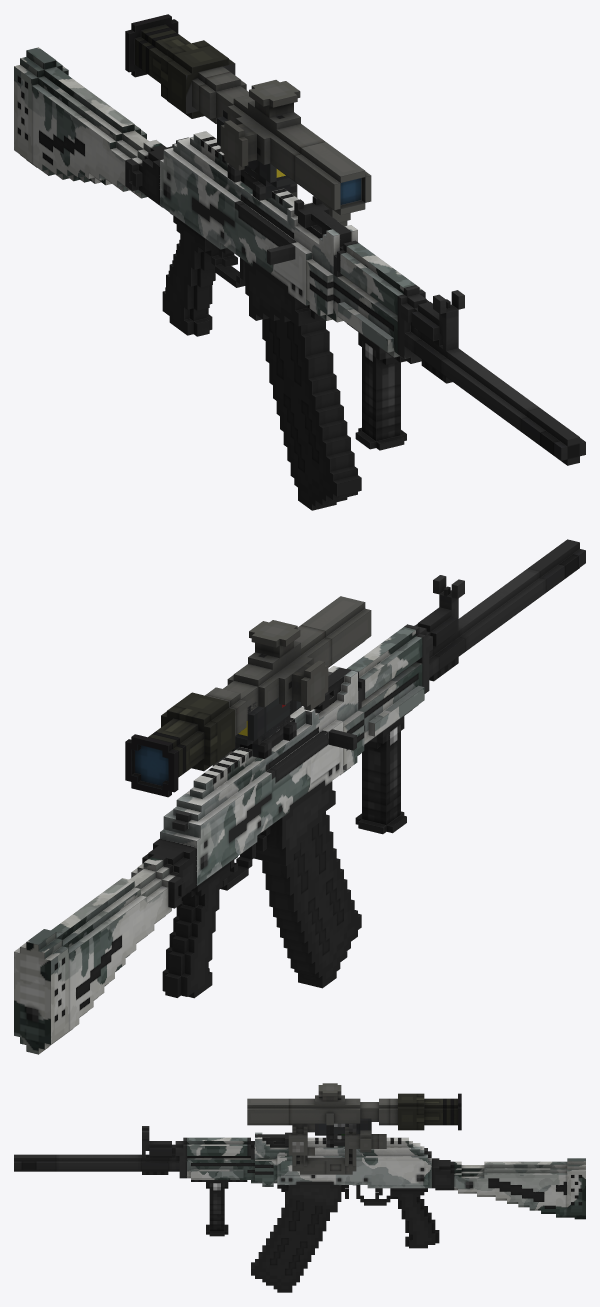
File: RD_SAIGA_SNOW.glb
3 renders of one model, top to bottom at view 1: azimuth 30°, elevation 25°; view 2: azimuth 150°, elevation 25°; view 3: azimuth 270°, elevation 25°, orthographic. The views are drawn at different scales.
Parts seen in each view (by area): view 1: SAIGA12, SCOPE_PSO1, SAIGA12_CLIP, GRIP1, SCOPE_TASCO; view 2: SAIGA12, SCOPE_PSO1, SAIGA12_CLIP, GRIP1, SCOPE_TASCO; view 3: SAIGA12, SCOPE_PSO1, SAIGA12_CLIP, GRIP1, SCOPE_TASCO.
Boxes of the visible parts, x1=… form: SAIGA12: x1=14, y1=47, x2=585, y2=465; SCOPE_PSO1: x1=125, y1=14, x2=371, y2=225; SAIGA12_CLIP: x1=262, y1=318, x2=361, y2=510; GRIP1: x1=347, y1=323, x2=406, y2=450; SCOPE_TASCO: x1=217, y1=110, x2=296, y2=200; SAIGA12: x1=14, y1=539, x2=585, y2=1054; SCOPE_PSO1: x1=125, y1=596, x2=371, y2=797; SAIGA12_CLIP: x1=262, y1=811, x2=361, y2=988; GRIP1: x1=355, y1=709, x2=412, y2=834; SCOPE_TASCO: x1=231, y1=697, x2=301, y2=759; SAIGA12: x1=14, y1=1126, x2=585, y2=1248; SCOPE_PSO1: x1=247, y1=1083, x2=461, y2=1174; SAIGA12_CLIP: x1=251, y1=1198, x2=329, y2=1292; GRIP1: x1=191, y1=1180, x2=247, y2=1236; SCOPE_TASCO: x1=315, y1=1118, x2=371, y2=1147.
Bounding box in the file's own units: 0.1378 × 0.5807 × 1.5.
7 materials, 7 textured.
